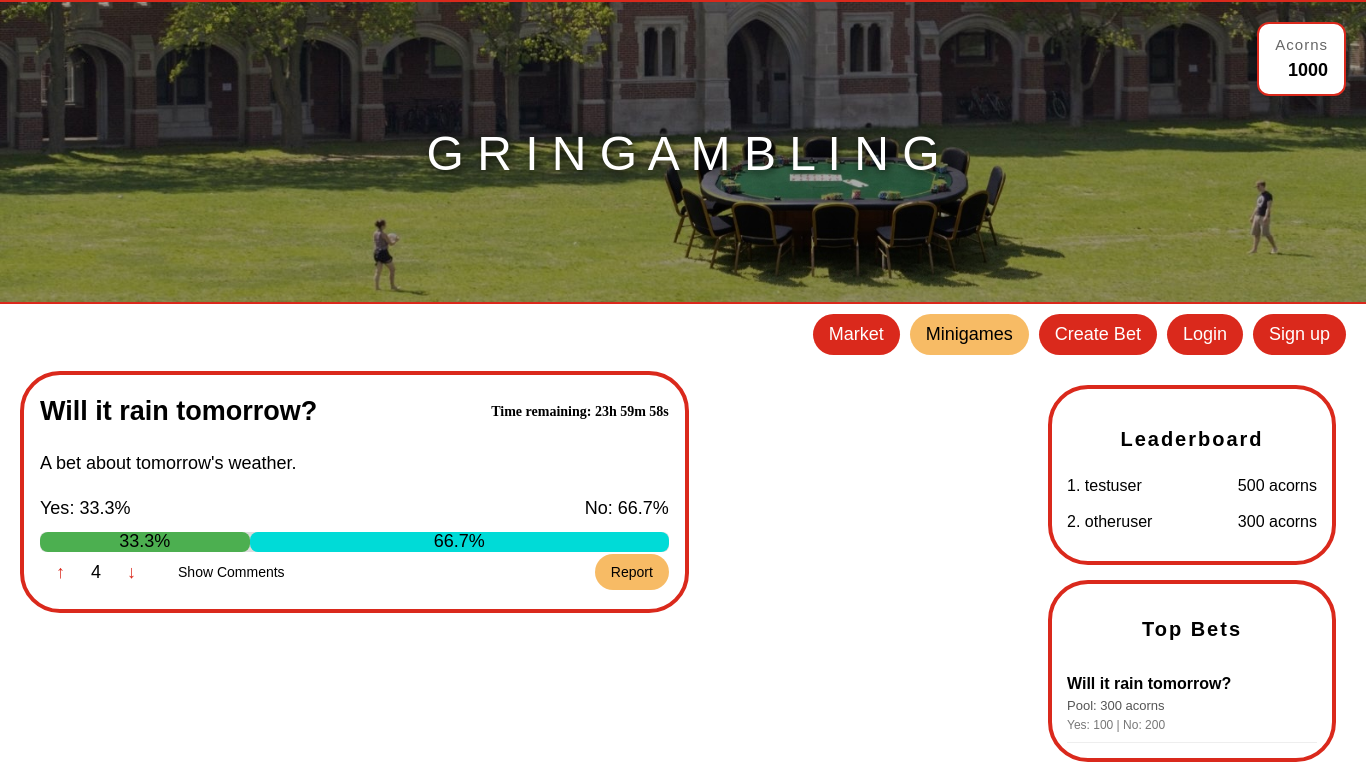
Test: register modal › opens when Sign Up is clicked
The width and height of the screenshot is (1366, 768).
Click the button "Sign up": (1299, 334) [1253,314,1346,355]
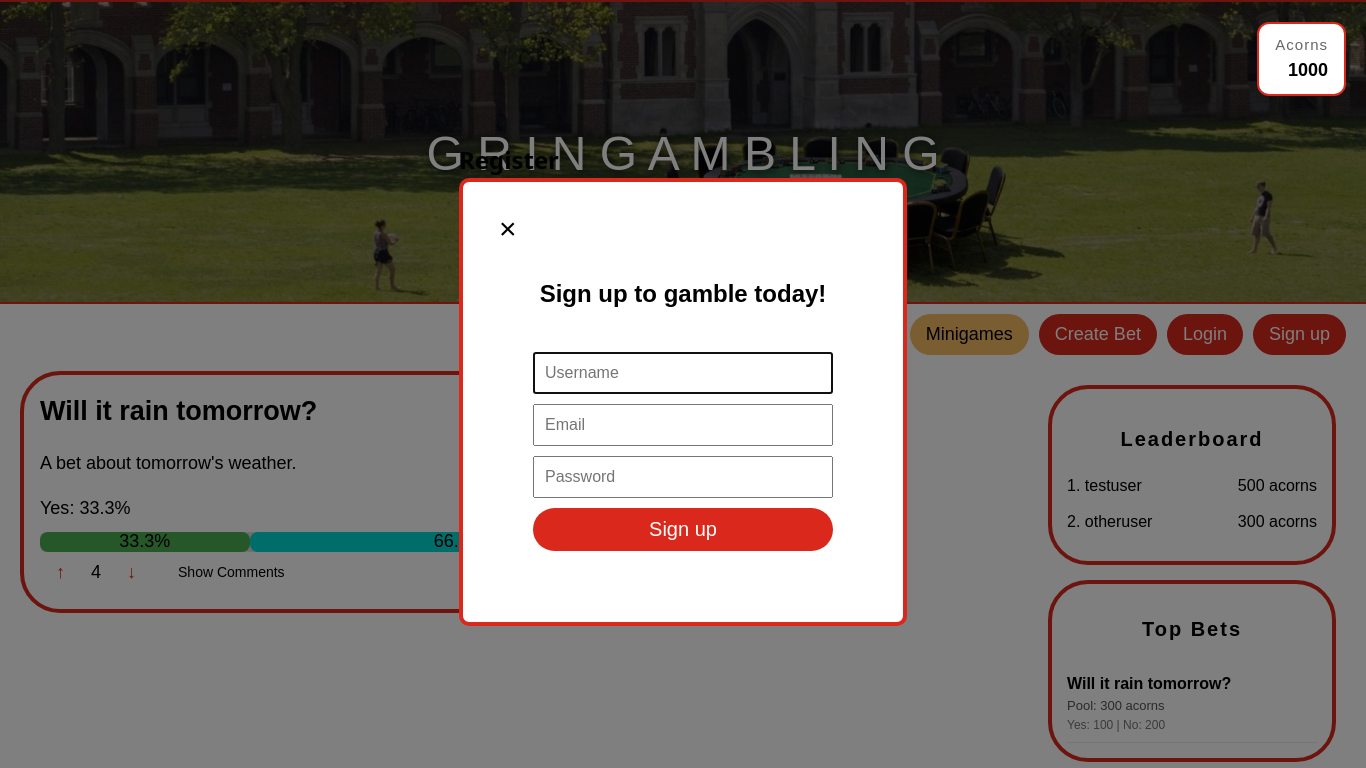
Expected: the dialog "Register × Sign up to gamble today! Sign up" is shown, [459,142,907,626]
